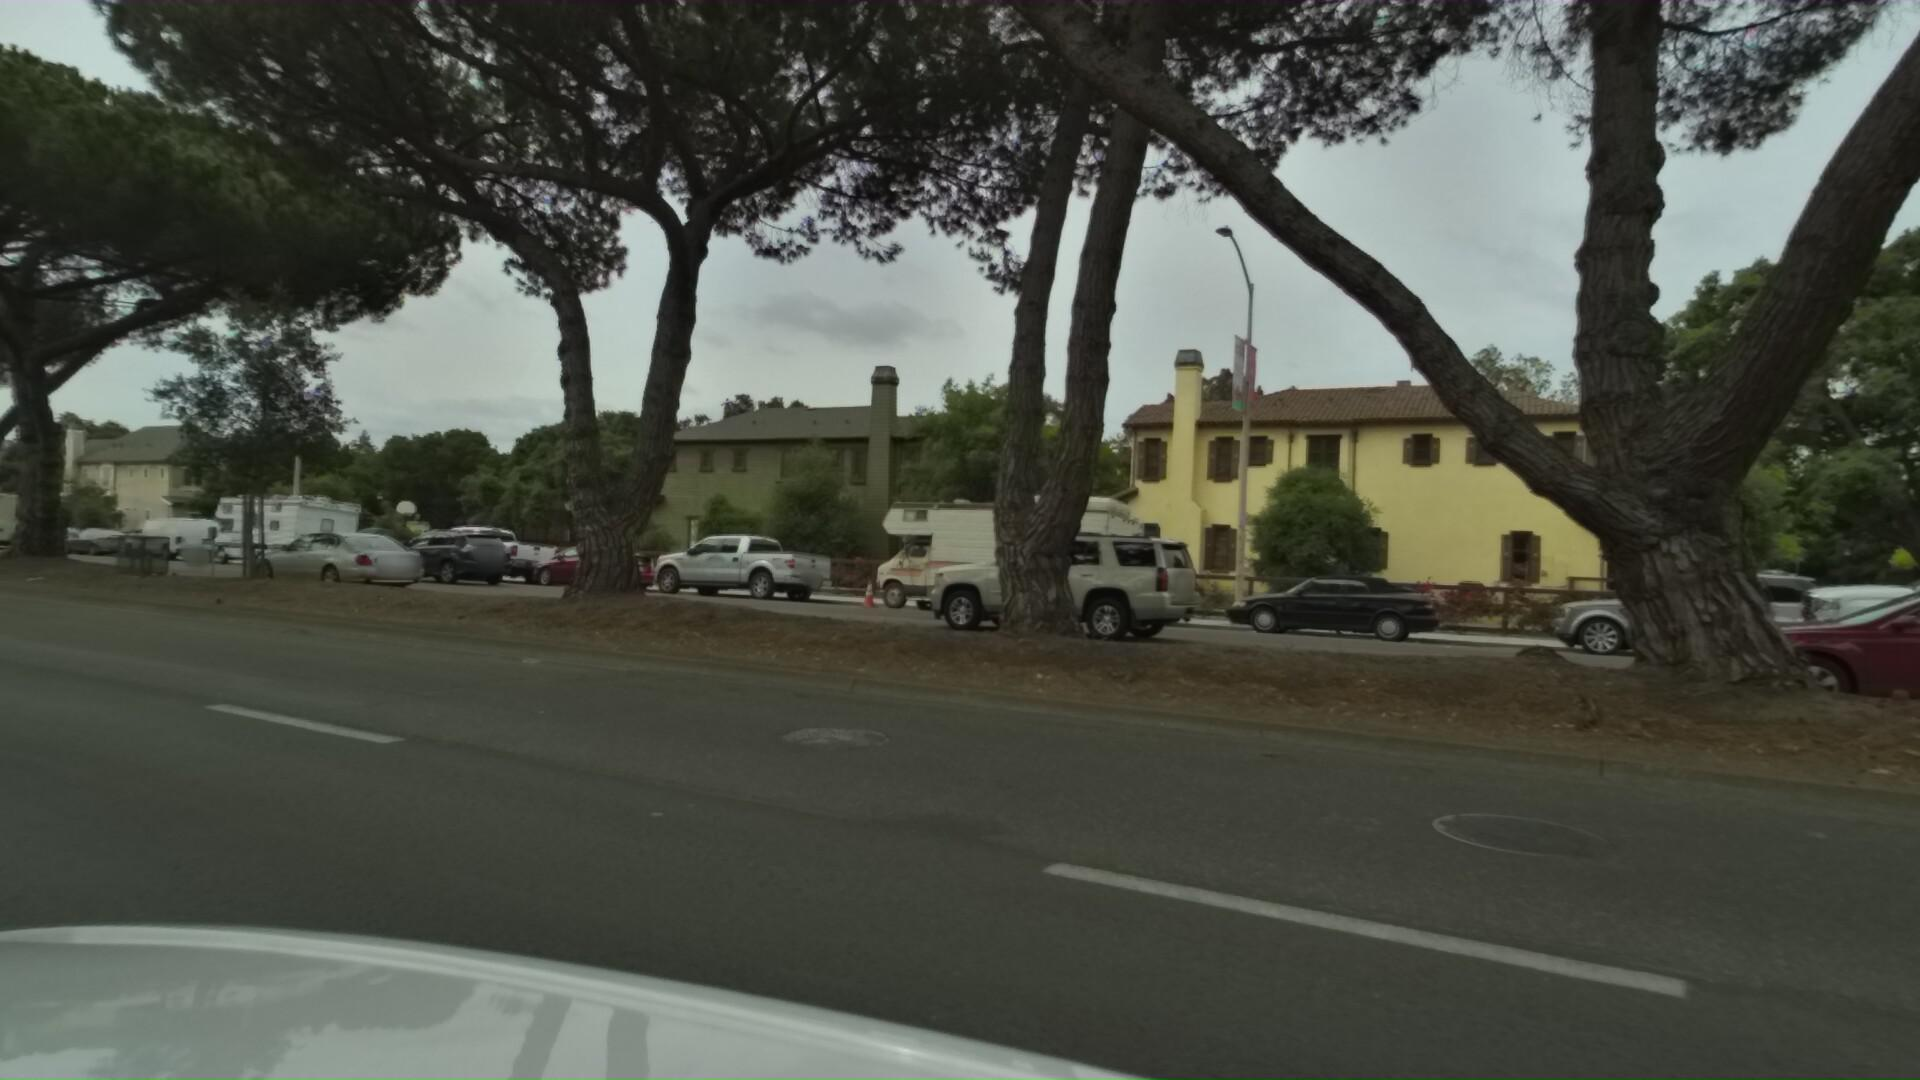car: (1551, 562, 1920, 760), (1671, 542, 1920, 716), (1491, 560, 1813, 679), (860, 524, 1153, 644), (1183, 567, 1414, 651), (622, 530, 825, 611), (222, 525, 411, 603), (388, 522, 553, 589), (356, 526, 498, 585), (508, 541, 647, 596), (107, 516, 223, 567), (302, 526, 405, 578), (47, 527, 138, 562), (1903, 550, 1920, 725)
other_vehicle: (837, 493, 1178, 634), (195, 495, 357, 575), (0, 487, 57, 555)
